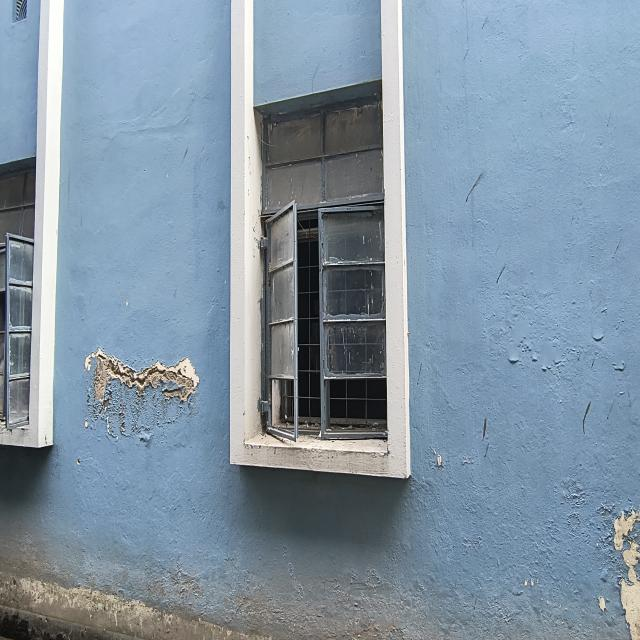Broken window pane: (318, 204, 386, 432), (267, 201, 295, 439)
Paint Peeling: (538, 474, 640, 640)
Scaling: (85, 348, 199, 439)
